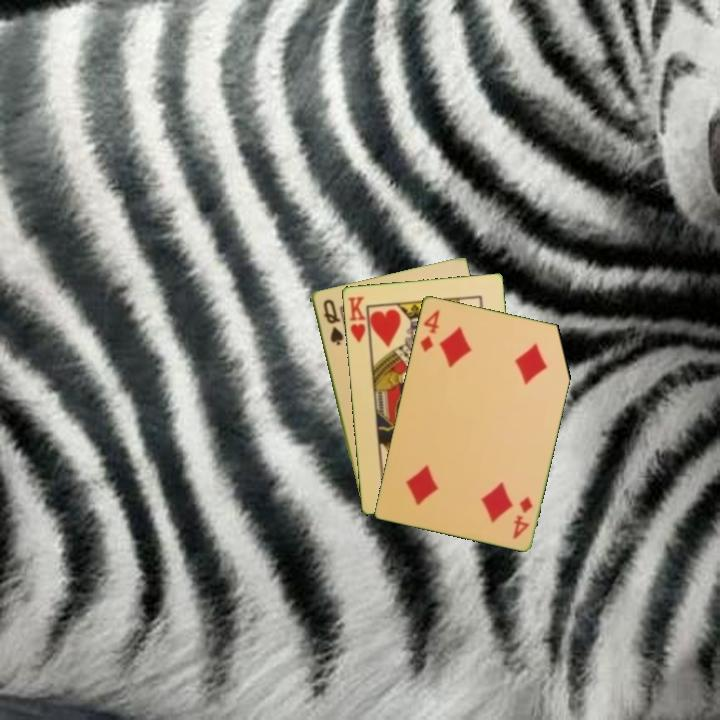4d: (509, 492, 536, 542), (416, 306, 442, 354)
Kh: (344, 292, 372, 347)
Qs: (319, 295, 346, 348)
